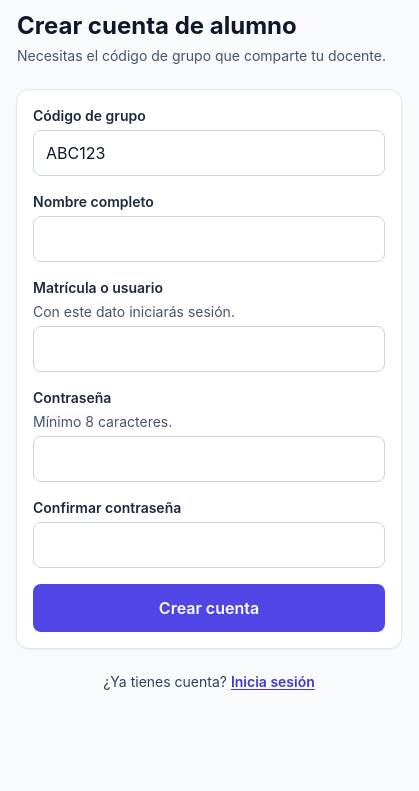
Test: RegisterPage › blocks submission when the passwords do not match
Type "Luis" into the field labelled "Nombre completo". click: (209, 239)
box: [33,216,385,262]
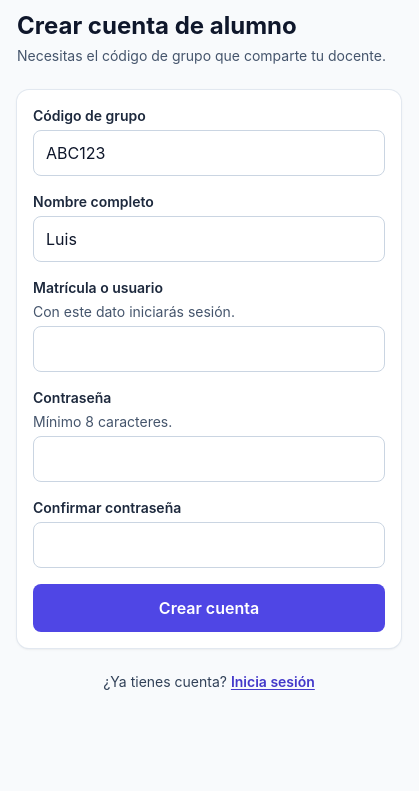
Type "a001" into the field labelled "Matrícula o usuario". click: (209, 349)
box: [33,326,385,372]
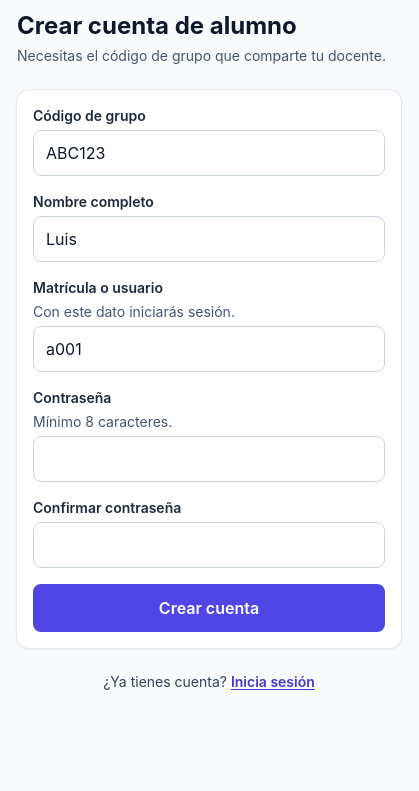
Type "secreto123" into the password field labelled "Contraseña". click: (209, 459)
box: [33,436,385,482]
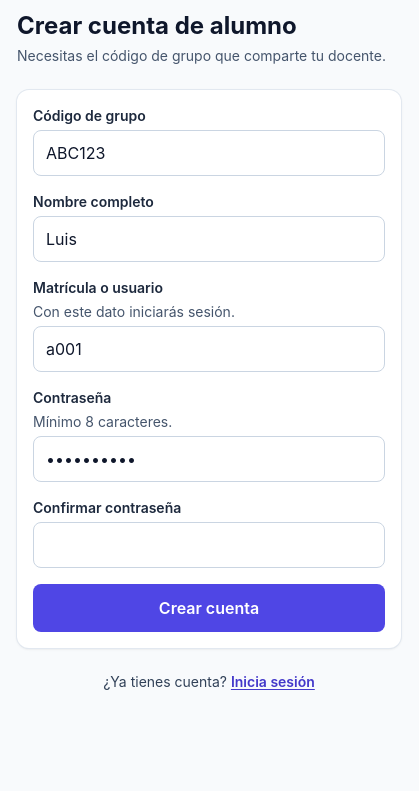
Type "secreto124" into the password field labelled "Confirmar contraseña". click: (209, 545)
box: [33,522,385,568]
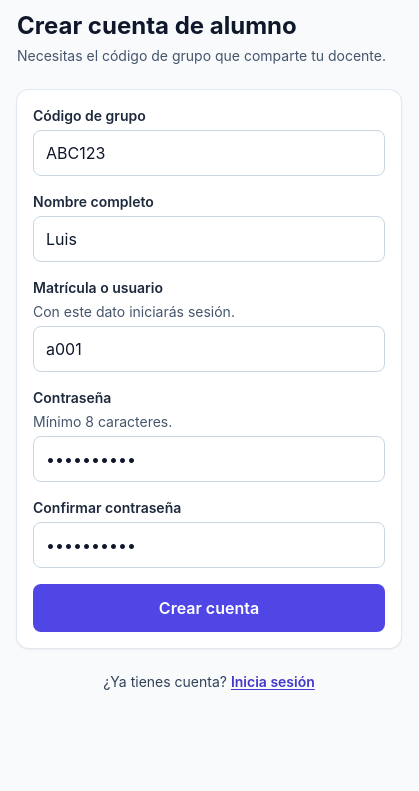
Click the button "Crear cuenta". click: (209, 608)
box: [33,584,385,632]
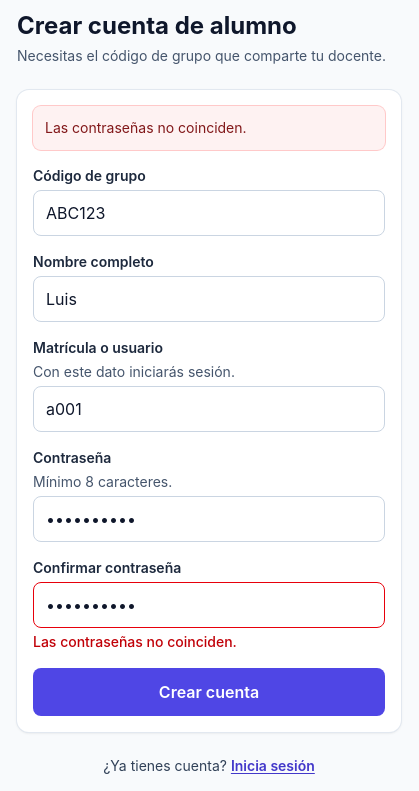
Check: the message reads "Las contraseñas no coinciden.", box [45,119,247,136]
